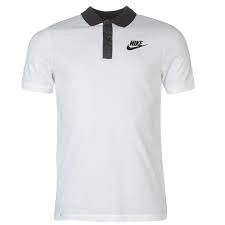C_polo shirt: (15, 13, 210, 224)
